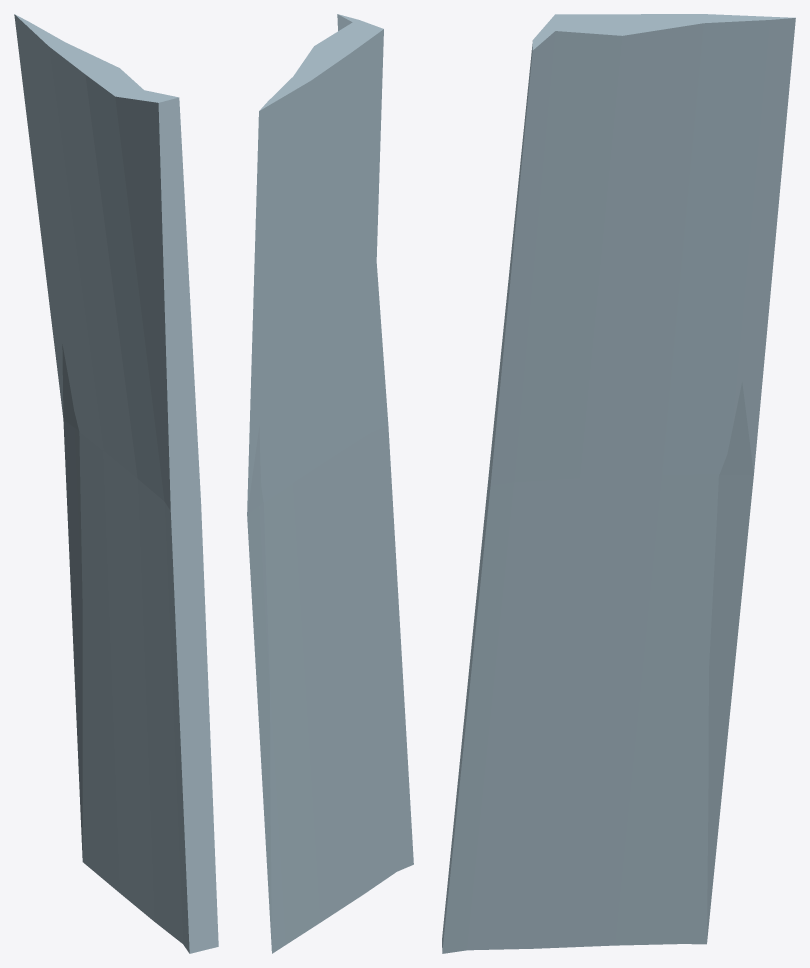
File: su33d_rudder_left.glb
3 renders of one model, left to right at view 1: azimuth 30°, elevation 25°; view 2: azimuth 150°, elevation 25°; view 3: azimuth 270°, elevation 25°, orthographic. The views are drawn at different scales.
Visible parts, largest first — view 1: 0_RudderLeft; view 2: 0_RudderLeft; view 3: 0_RudderLeft.
Boxes of the visible parts, box(x1,y1,x2,y2) form: 0_RudderLeft: box(14, 14, 218, 953); 0_RudderLeft: box(247, 14, 413, 953); 0_RudderLeft: box(442, 14, 795, 953).
Size of the model in its own units: 0.1735 by 2.42 by 0.8498.
